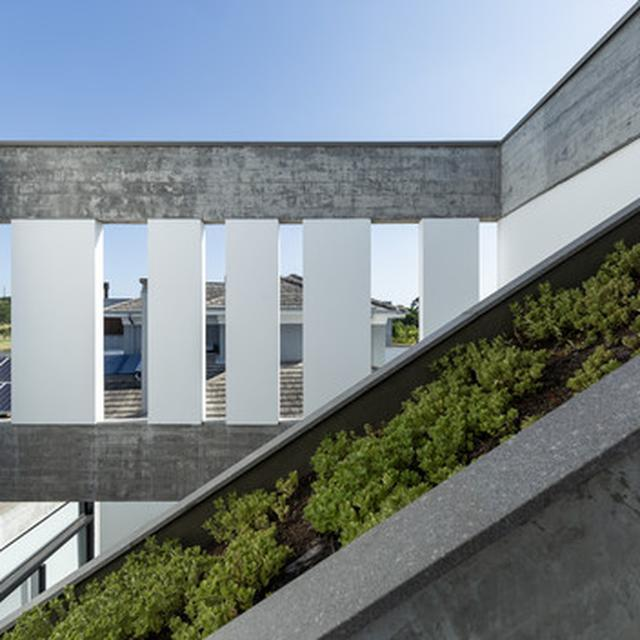building: (2, 137, 640, 640)
